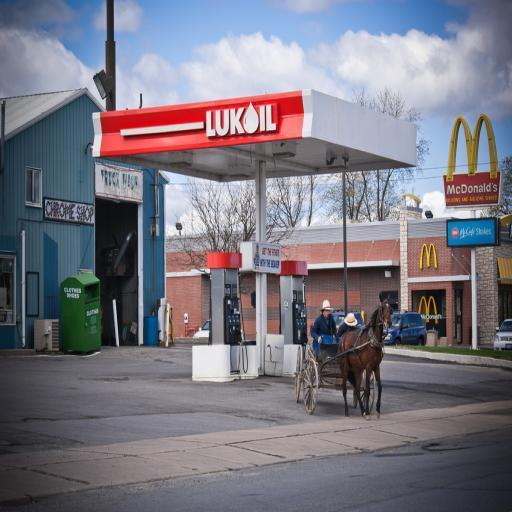horse: (336, 290, 394, 420)
